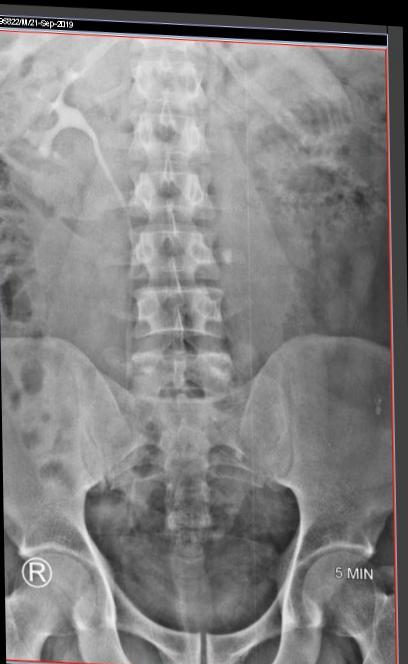bladder: (109, 519, 280, 636)
vertebrae: (129, 107, 210, 161)
